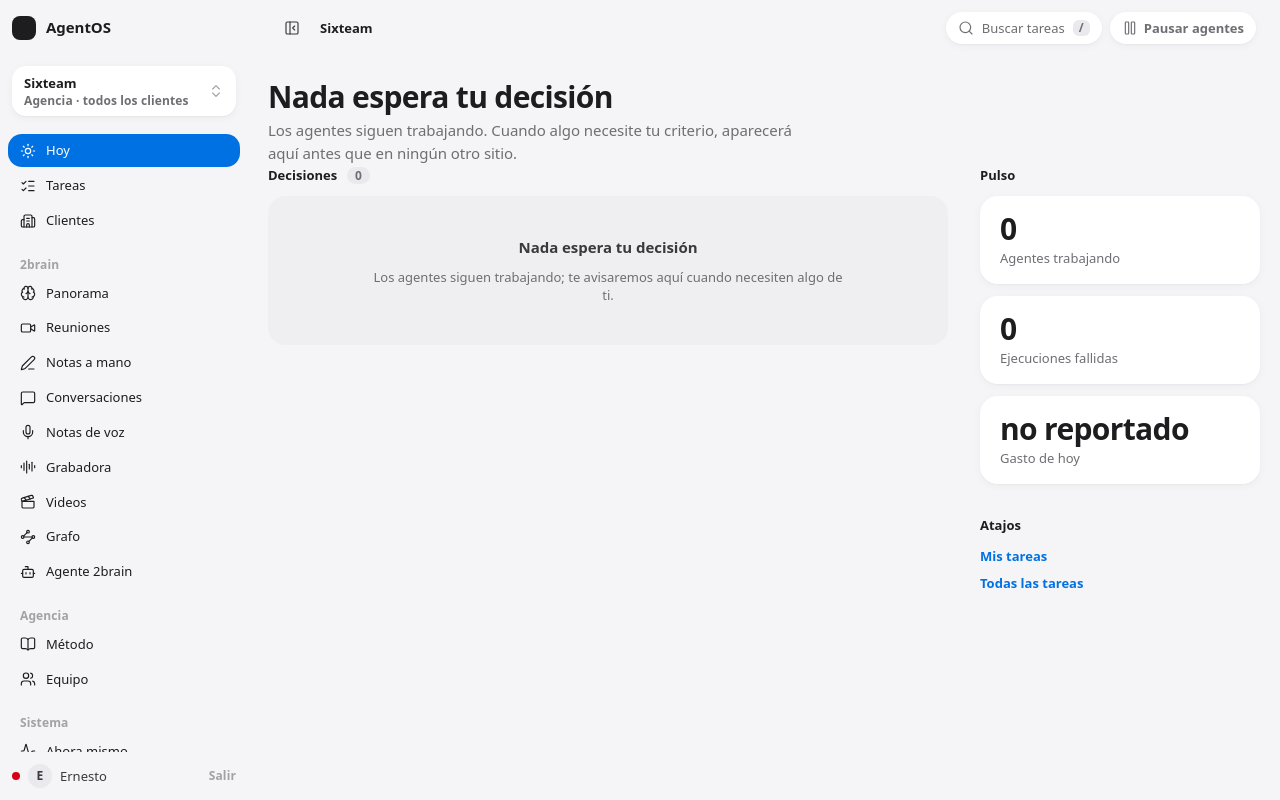
menú lateral ocultable › el botón de la cabecera oculta el menú, lo recuerda y lo vuelve a mostrar
Expected: the navigation bar named "Navegación principal" is shown, [0, 126, 248, 752]
Expected: the element with id "menu-lateral" is shown, [0, 0, 248, 799]
Click the button named "Ocultar menú" at (292, 28), box [272, 8, 312, 48]
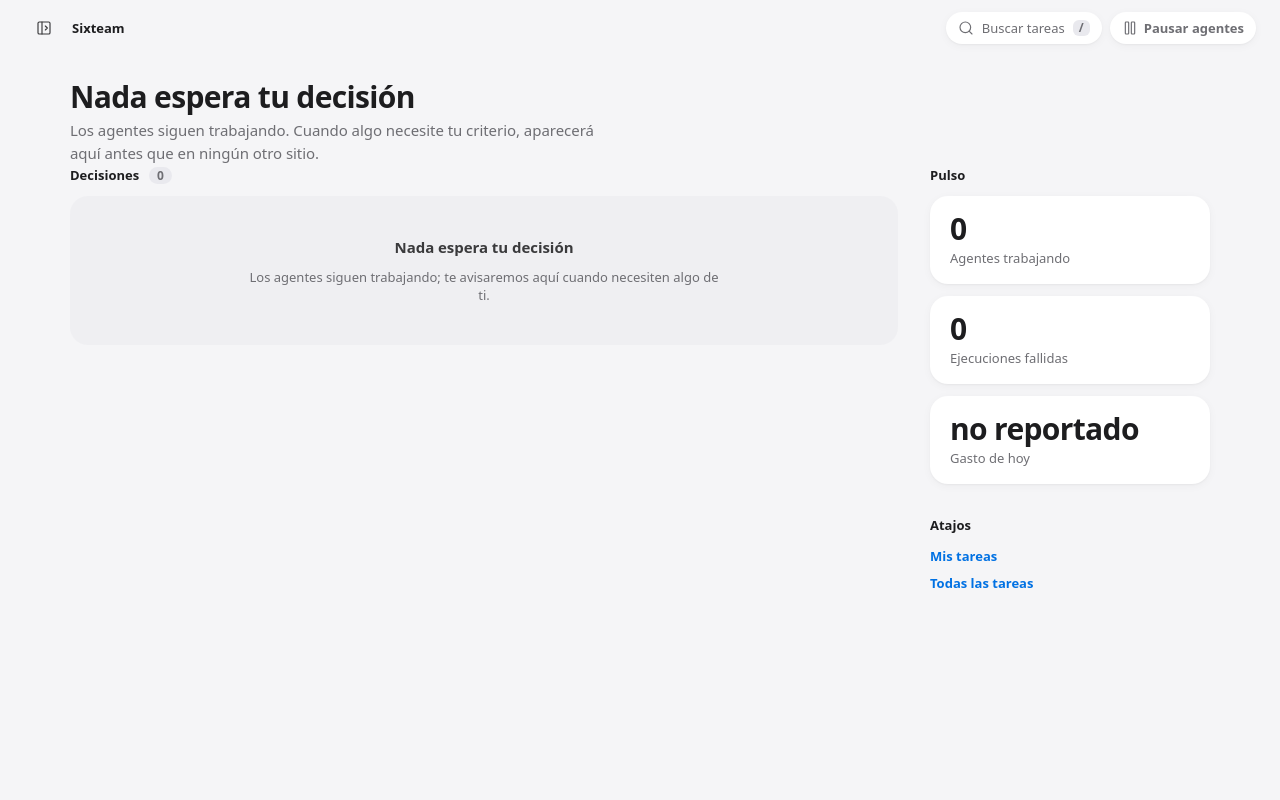
Expected: the element with id "menu-lateral" is gone
Expected: the button named "Mostrar menú" is collapsed
Click the button named "Mostrar menú" at (44, 28), box [24, 8, 64, 48]
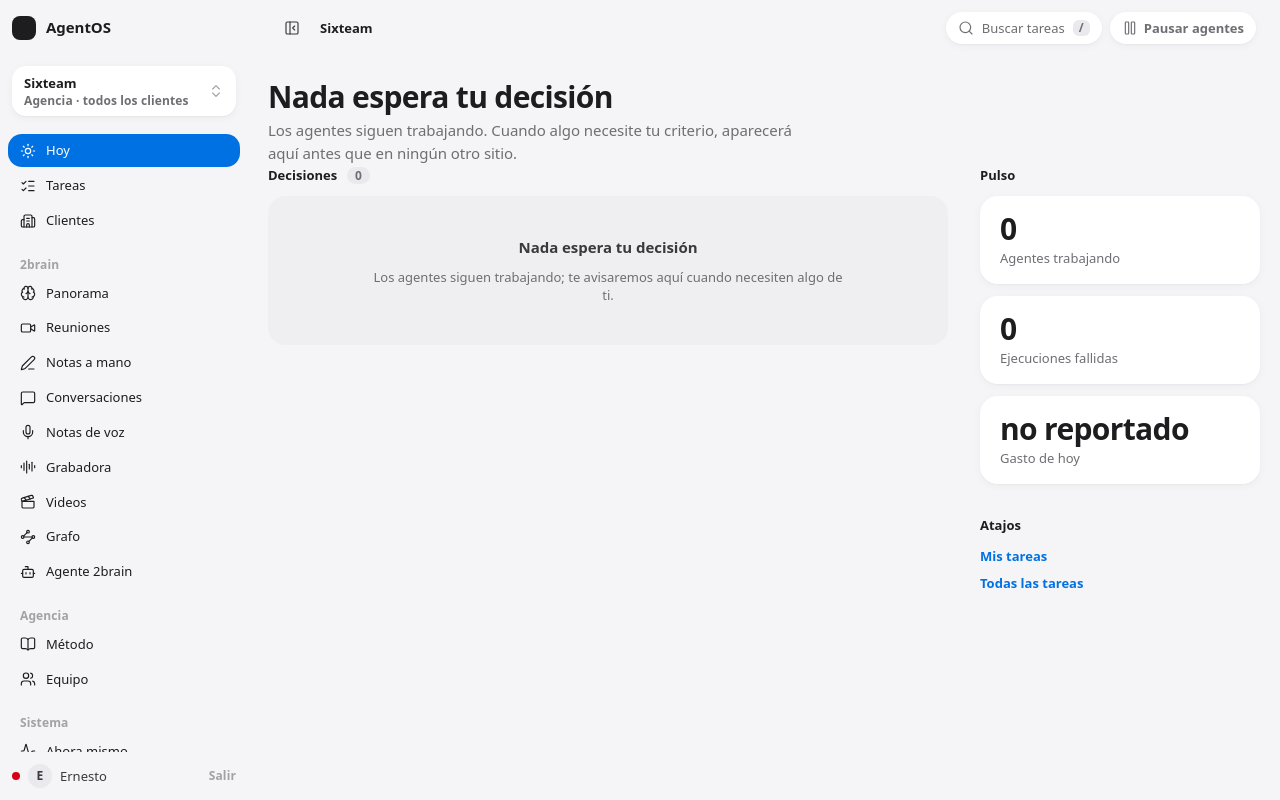
Expected: the navigation bar named "Navegación principal" is shown, [0, 126, 248, 752]
